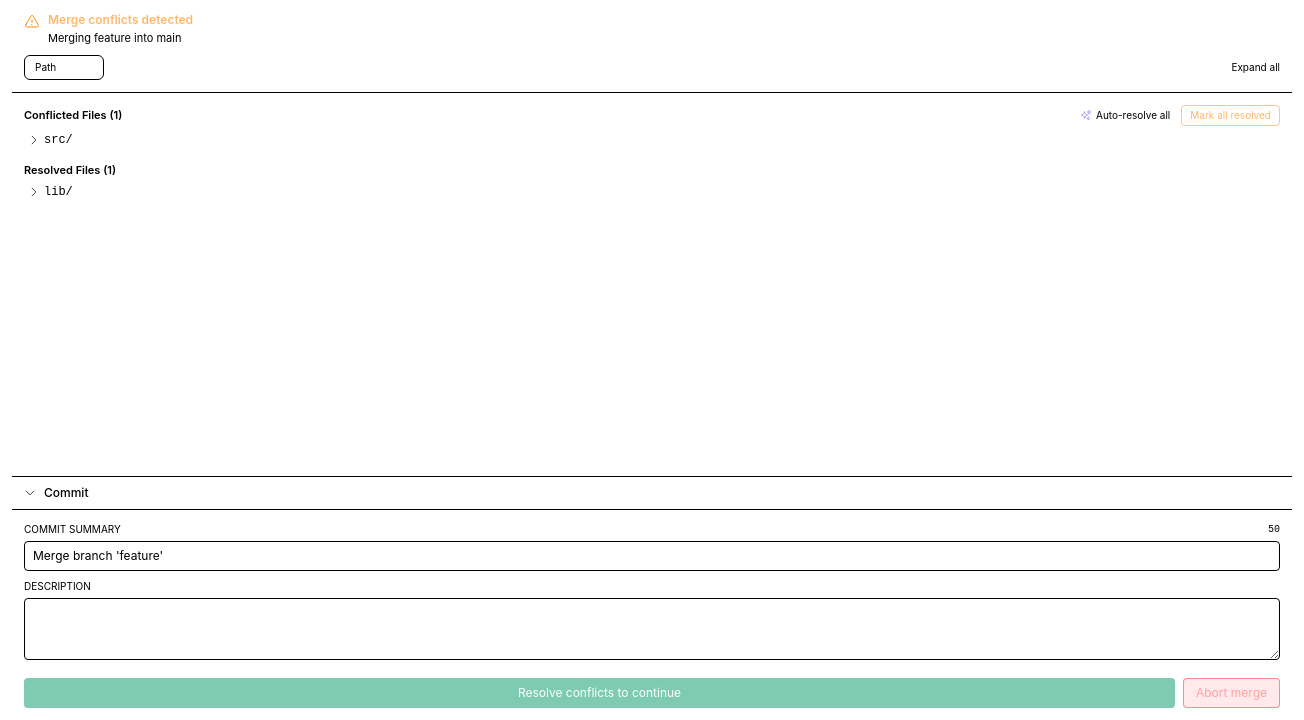
Test: MergeConflictsPanel › expands all folders in tree view
Expected: the text "conflict.ts" is not shown
Click the button "Expand all" at x=1256, y=67, box [1231, 60, 1280, 74]
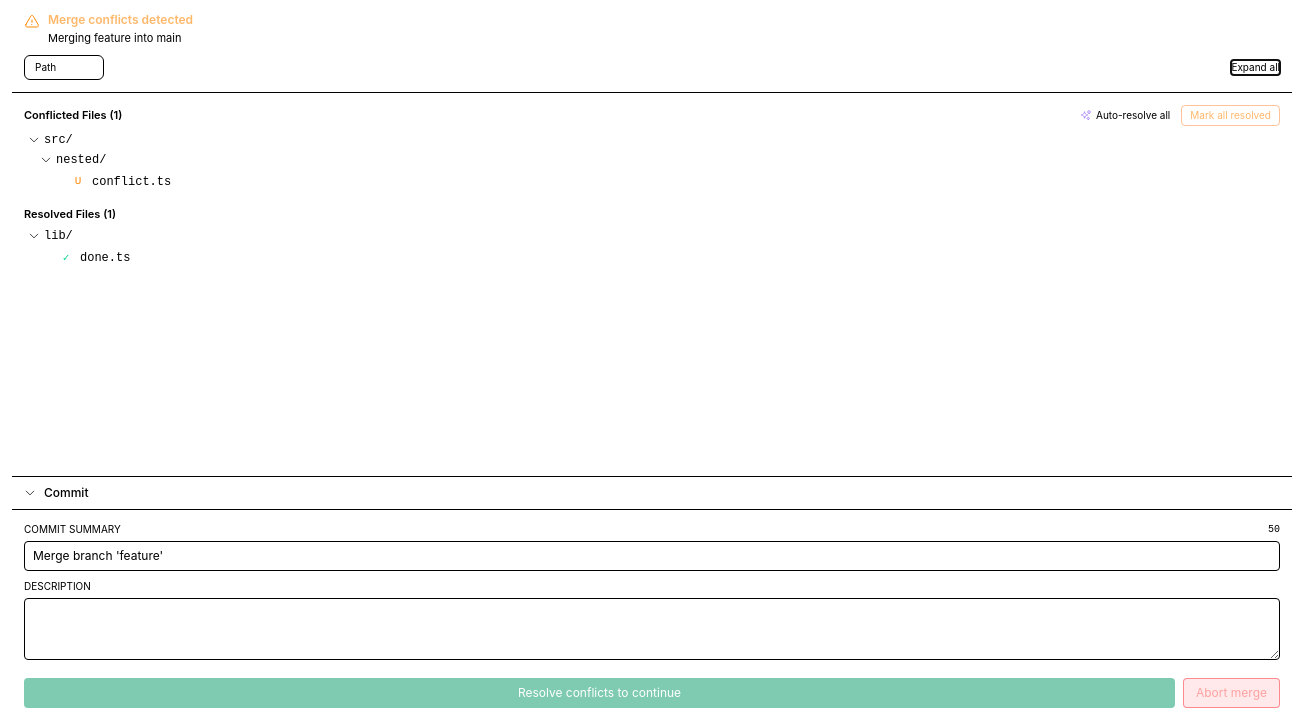
Result: the text "conflict.ts" is shown at [92, 174, 171, 188]
Result: the text "done.ts" is shown at [80, 250, 130, 266]
